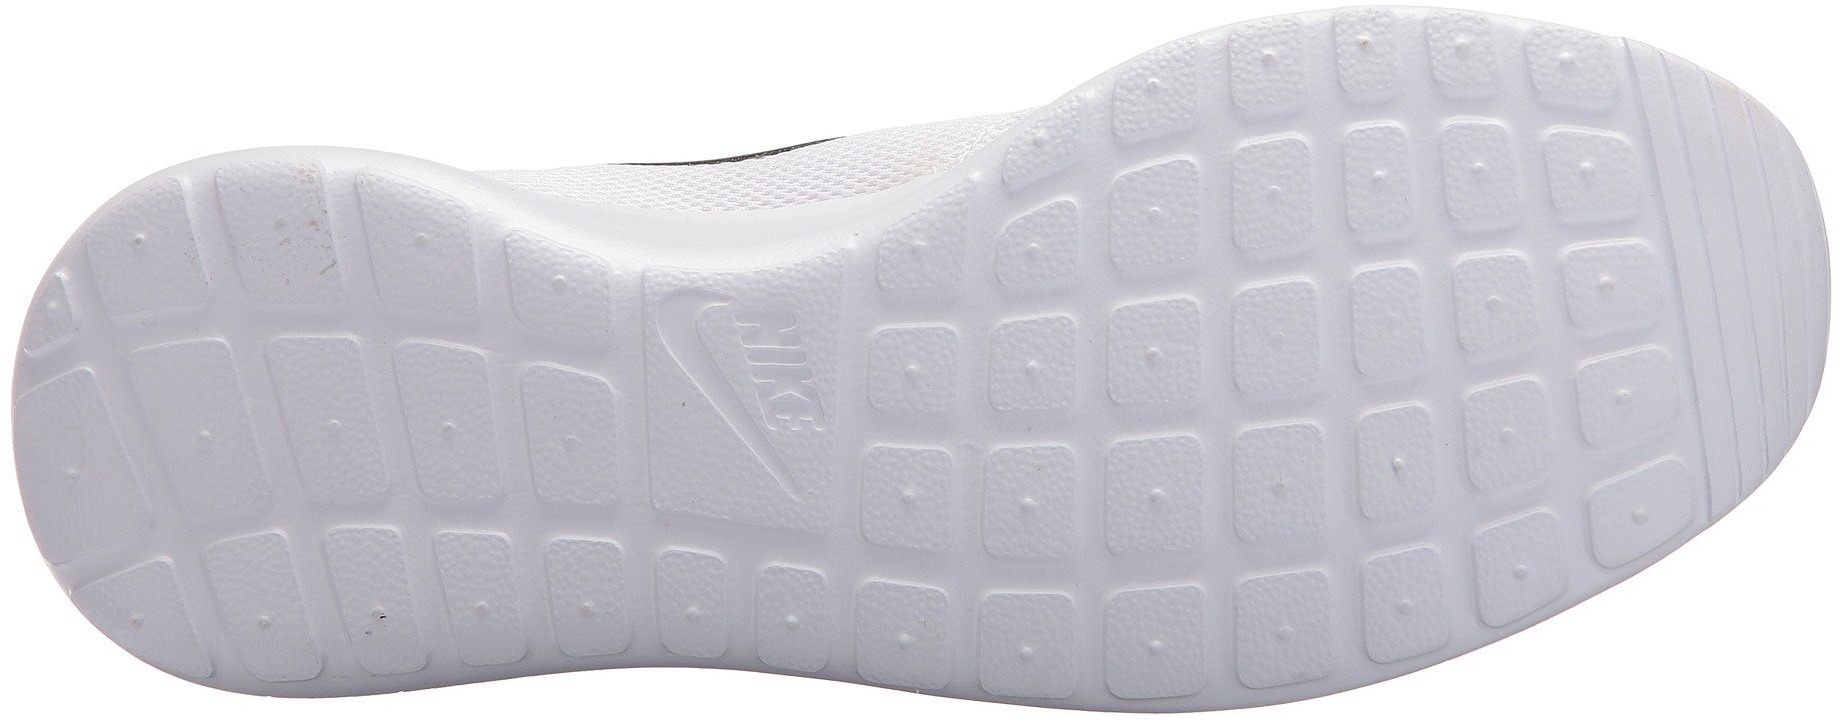quad: (854, 14, 1706, 712)
text: (719, 308, 838, 451)
